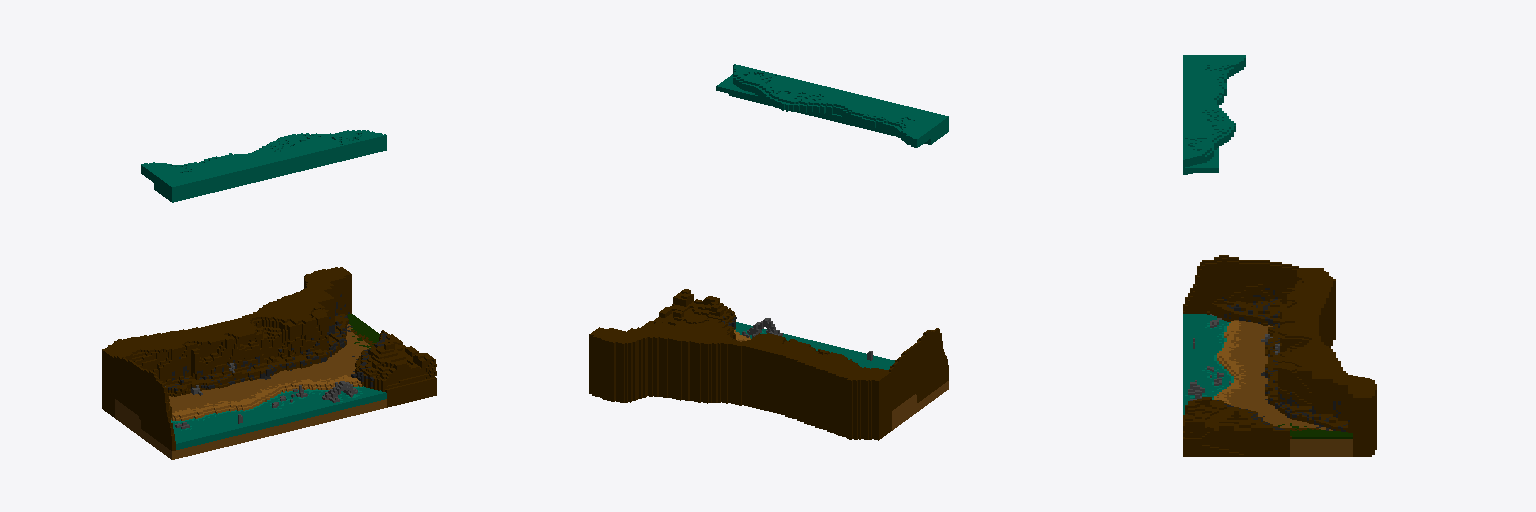
3 views of the same model, side by side, from view 1: azimuth 30°, elevation 25°; view 2: azimuth 150°, elevation 25°; view 3: azimuth 270°, elevation 25° (orthographic).
Bounding box in the file's own units: 126 × 124 × 80.
Materials: 1 (1 with a texture image).